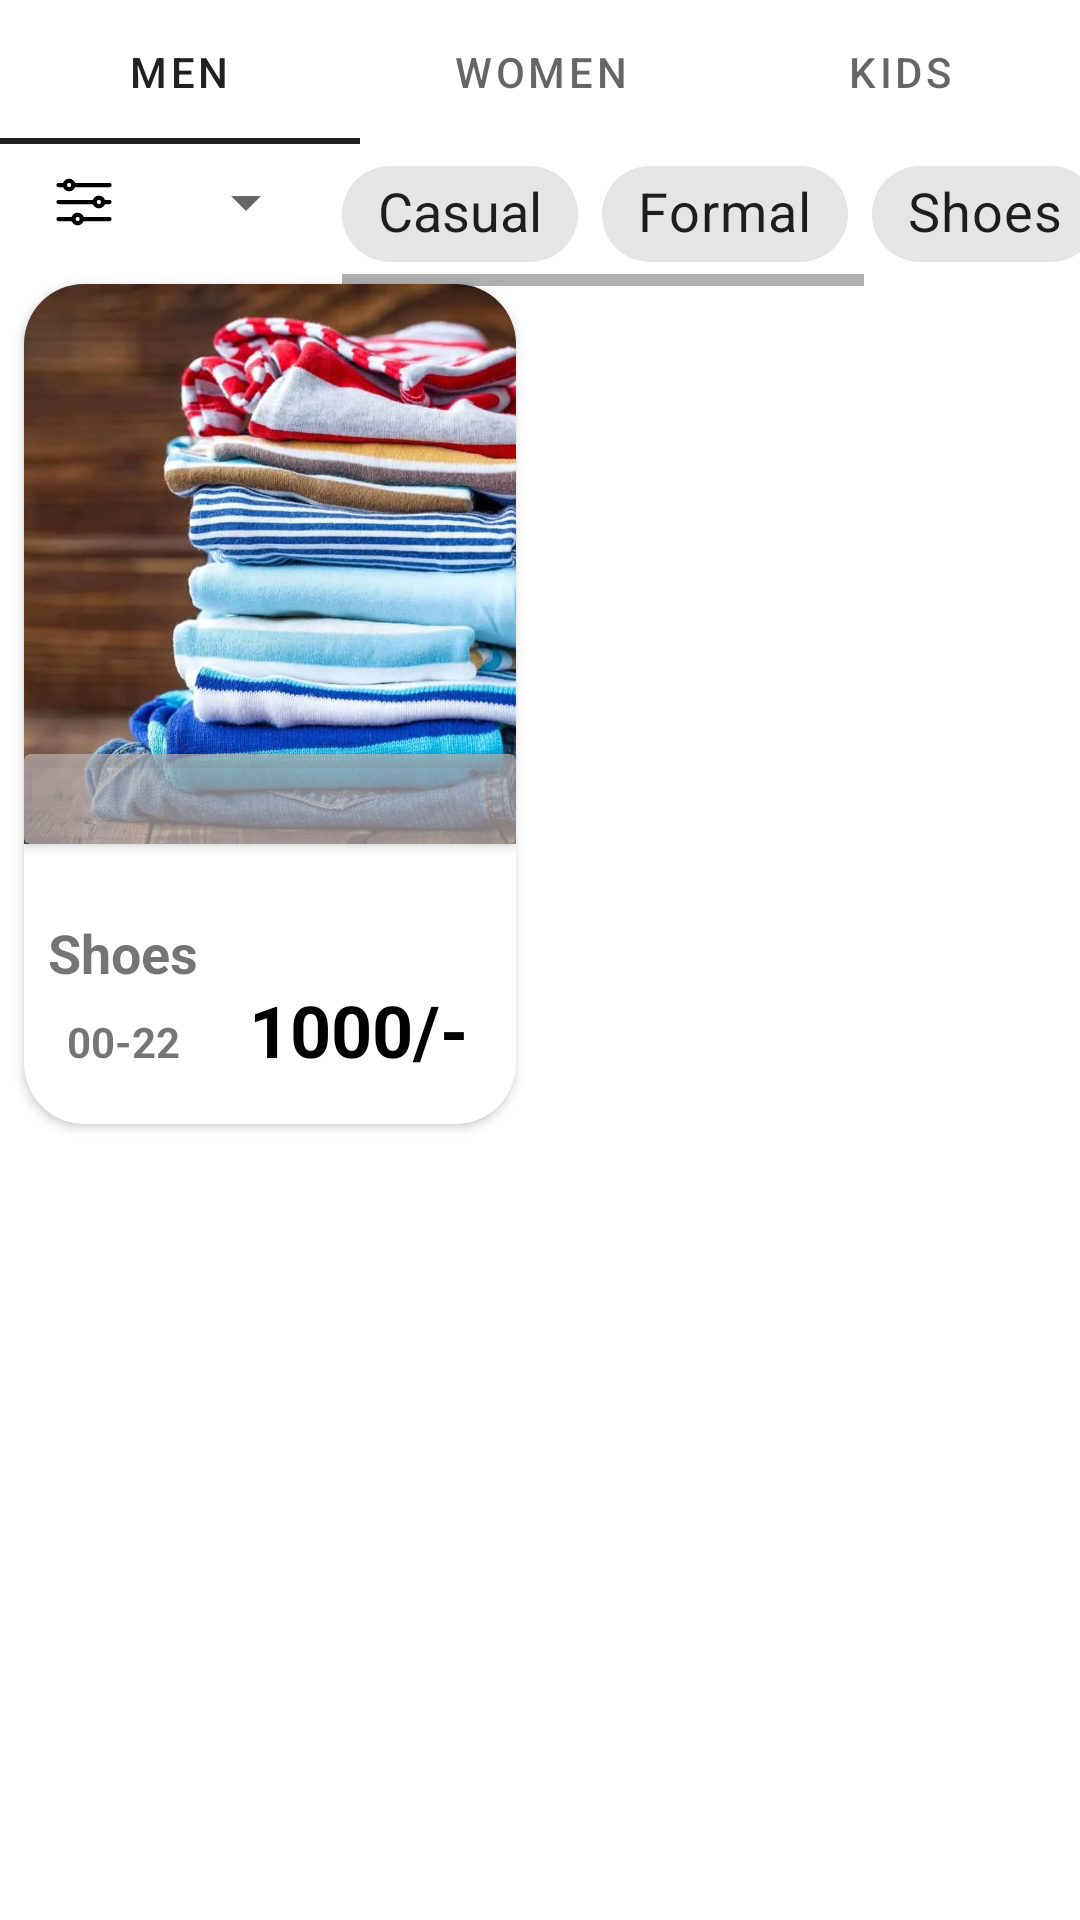

Screen size 1080x1920. Icon name, then its center in pixels as (x,y):
filters: (84,202)
